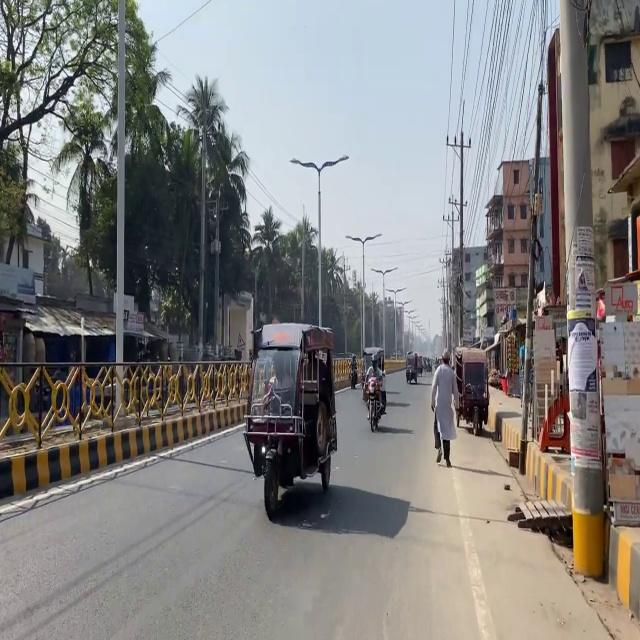Construction-barrier: (0, 396, 248, 512)
Fallen-tree: (405, 365, 418, 384)
Garbage-bin: (430, 348, 461, 467), (361, 351, 387, 414)
Light-pole: (558, 0, 605, 576), (112, 0, 127, 419)
Pole: (0, 322, 228, 496)
Traffic-cone: (242, 321, 338, 519), (453, 346, 489, 436), (405, 350, 421, 383)
